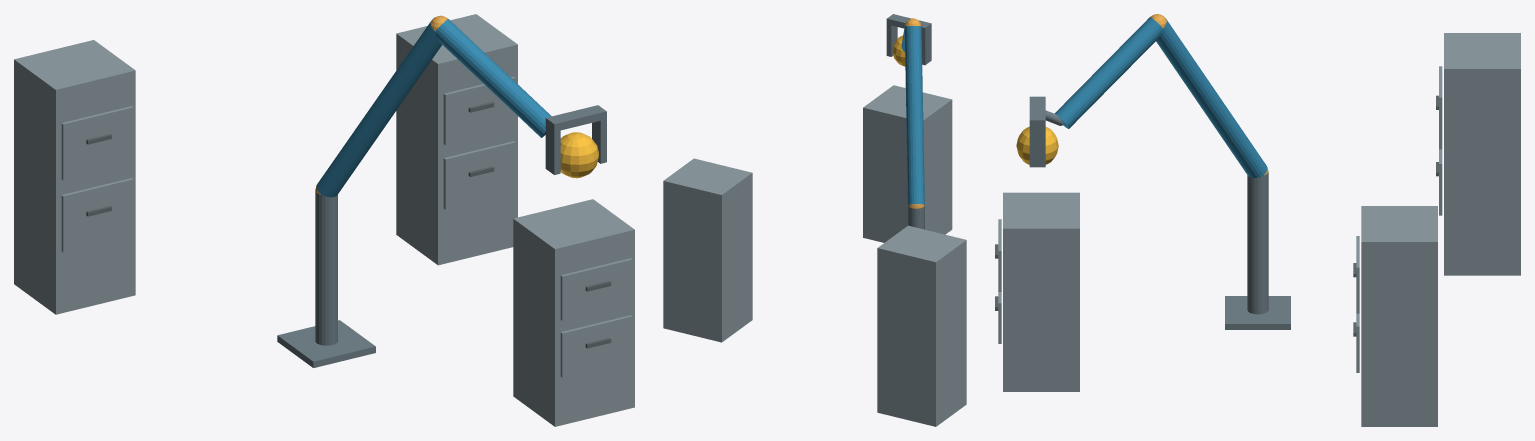
The picture shows the model from 3 angles, left to right: view 1: azimuth 30°, elevation 25°; view 2: azimuth 150°, elevation 25°; view 3: azimuth 270°, elevation 25°; orthographic projection. The views are drawn at different scales.
Visible parts, largest first — view 1: cabinet_3 body, cabinet_1 body, cabinet_2 body, moving link 1, cabinet_3 drawer front.001, cabinet_3 drawer front, cabinet_2 drawer front, fixed post, moving link 2, cabinet_1 drawer front.001, cabinet_1 drawer front, cabinet_2 drawer front.001 (+4 smaller); view 2: cabinet_3 body, cabinet_2 body, cabinet_1 body, moving link 1, gripper bridge, fixed post, gripper finger -1, gripper finger 1; view 3: cabinet_3 body, cabinet_2 body, cabinet_1 body, moving link 1, fixed post, moving link 2, pedestal, ball ball_1, gripper finger 1, gripper bridge.
Boxes of the visible parts, x1=… form: cabinet_3 body: x1=14, y1=40, x2=135, y2=314; cabinet_1 body: x1=513, y1=199, x2=634, y2=426; cabinet_2 body: x1=396, y1=14, x2=517, y2=265; moving link 1: x1=316, y1=20, x2=441, y2=197; cabinet_3 drawer front.001: x1=61, y1=106, x2=133, y2=180; cabinet_3 drawer front: x1=61, y1=178, x2=133, y2=252; cabinet_2 drawer front: x1=443, y1=141, x2=515, y2=209; fixed post: x1=315, y1=192, x2=337, y2=345; moving link 2: x1=435, y1=19, x2=551, y2=137; cabinet_1 drawer front.001: x1=560, y1=258, x2=632, y2=320; cabinet_1 drawer front: x1=560, y1=315, x2=632, y2=377; cabinet_2 drawer front.001: x1=443, y1=76, x2=515, y2=145; cabinet_3 body: x1=877, y1=225, x2=966, y2=426; cabinet_2 body: x1=663, y1=158, x2=752, y2=342; cabinet_1 body: x1=863, y1=85, x2=952, y2=242; moving link 1: x1=904, y1=26, x2=924, y2=204; gripper bridge: x1=886, y1=14, x2=931, y2=33; fixed post: x1=908, y1=205, x2=924, y2=229; gripper finger -1: x1=921, y1=29, x2=931, y2=65; gripper finger 1: x1=886, y1=24, x2=897, y2=56; cabinet_3 body: x1=1444, y1=33, x2=1520, y2=275; cabinet_2 body: x1=1361, y1=206, x2=1437, y2=426; cabinet_1 body: x1=1003, y1=192, x2=1079, y2=391; moving link 1: x1=1156, y1=19, x2=1267, y2=177; fixed post: x1=1247, y1=172, x2=1268, y2=314; moving link 2: x1=1054, y1=17, x2=1162, y2=128; pedestal: x1=1225, y1=296, x2=1290, y2=329; ball ball_1: x1=1016, y1=126, x2=1058, y2=164; gripper finger 1: x1=1029, y1=127, x2=1045, y2=167; gripper bridge: x1=1029, y1=96, x2=1045, y2=127.
Size of the model in its own units: 1.67 by 1.36 by 1.98.
